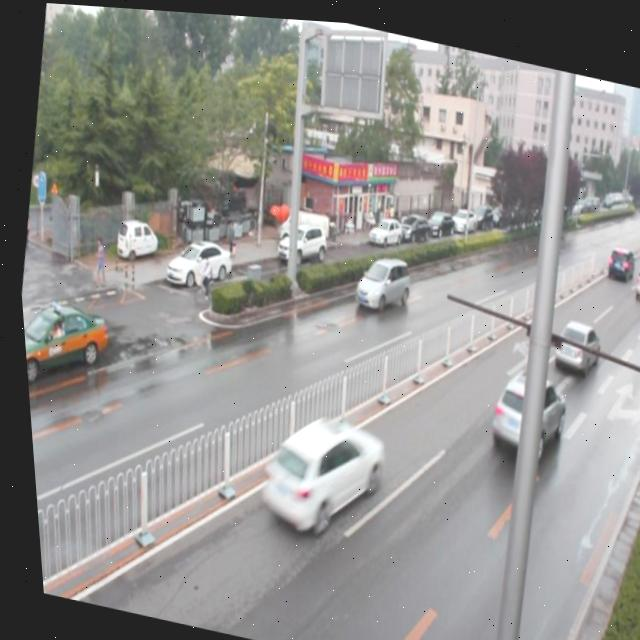car: (244, 400, 386, 547), (479, 360, 567, 456), (347, 244, 411, 314), (544, 308, 599, 370)
truck: (600, 236, 631, 273), (628, 251, 640, 293)
